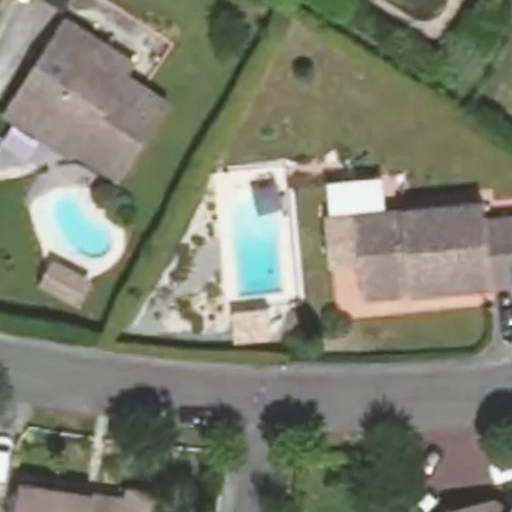pool: (227, 189, 282, 293)
